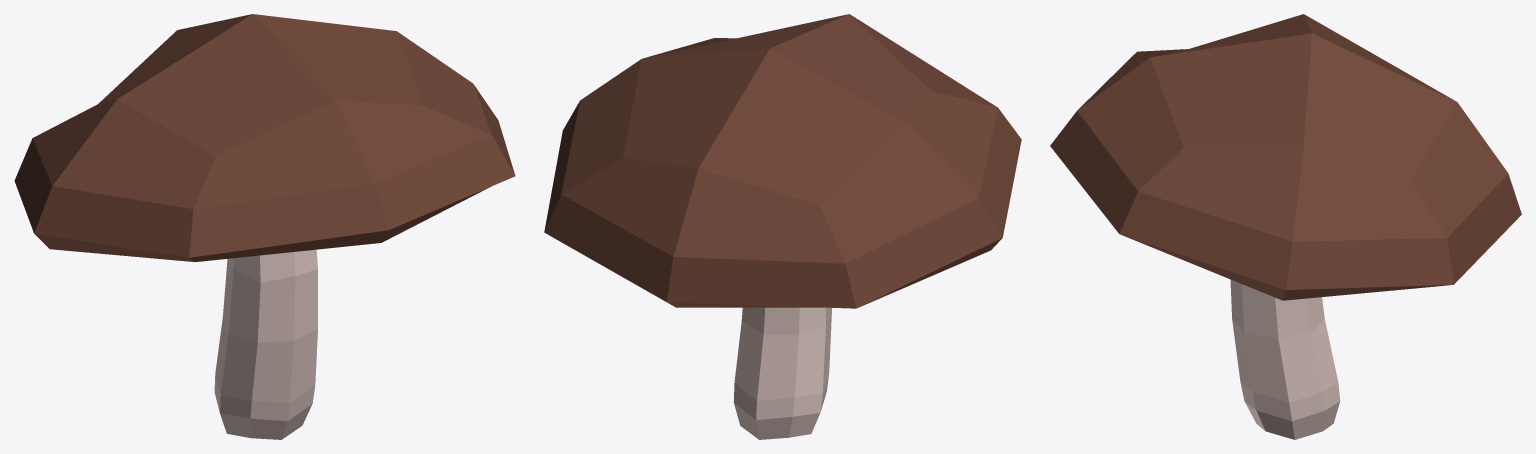
Rendered from MUSH_UMBRELLA_BROWN.fbx.
3 views of the same model, side by side, from view 1: azimuth 30°, elevation 25°; view 2: azimuth 150°, elevation 25°; view 3: azimuth 270°, elevation 25° (orthographic). The views are drawn at different scales.
Visible parts, largest first — view 1: pCube17, pCube18; view 2: pCube17, pCube18; view 3: pCube17, pCube18.
Part boxes in pixels (left/top/right/bottom): pCube17: left=14, top=14, right=515, bottom=262; pCube18: left=214, top=249, right=317, bottom=439; pCube17: left=544, top=14, right=1021, bottom=308; pCube18: left=733, top=307, right=831, bottom=439; pCube17: left=1050, top=14, right=1521, bottom=300; pCube18: left=1230, top=280, right=1340, bottom=439.
Size of the model in its own units: 17.11 by 14.49 by 15.62.
